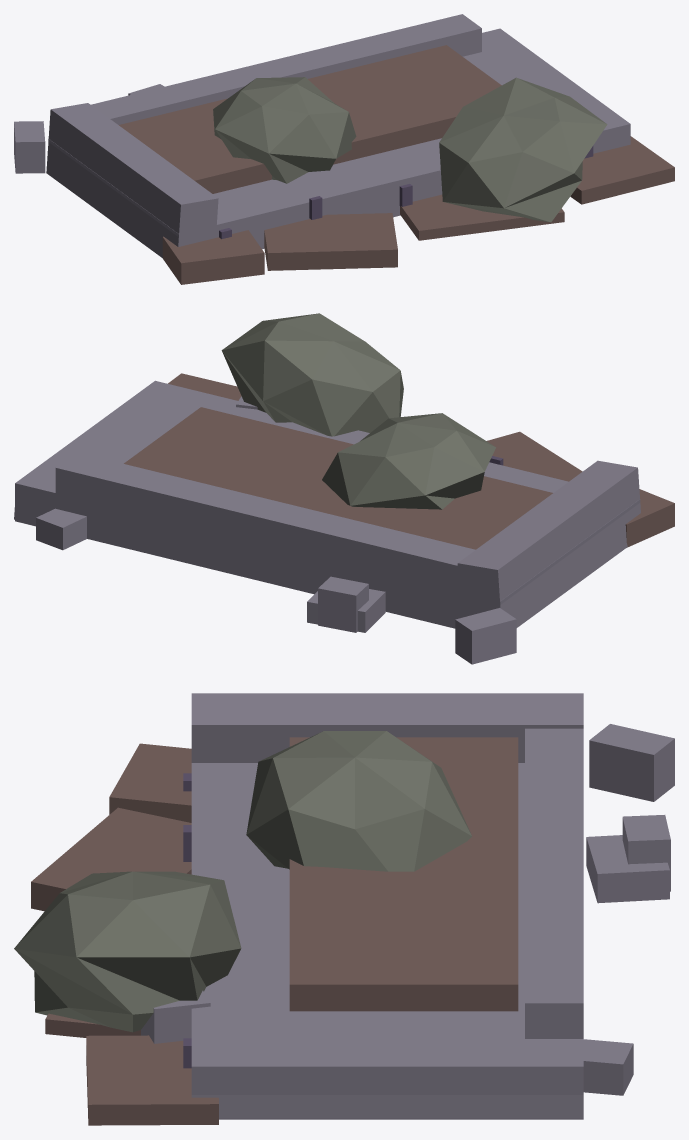
File: PlanterBroken.glb
The picture shows the model from 3 angles, top to bottom: view 1: azimuth 30°, elevation 25°; view 2: azimuth 150°, elevation 25°; view 3: azimuth 270°, elevation 25°; orthographic projection. The views are drawn at different scales.
Visible parts, largest first — view 1: crown (×2), soil, base, end--1, side--1, spill-2, spill-1, spill-3, spill-0, fragment-0, side-1; view 2: crown (×2), base, side--1, soil, end--1, fragment-0, spill-2, fragment-2, spill-3, fragment-4, fragment-3, end-1 (+1 smaller); view 3: crown (×2), base, soil, end--1, side--1, spill-1, end-1, spill-2, fragment-0, spill-3, fragment-3, fragment-4 (+3 smaller).
Boxes of the visible parts, box(x1,y1,x2,y2) form: crown (×2): box(213, 77, 607, 222); soil: box(119, 45, 501, 193); base: box(48, 28, 630, 248); end--1: box(46, 103, 218, 258); side--1: box(91, 14, 481, 124); spill-2: box(264, 213, 397, 270); spill-1: box(570, 136, 674, 204); spill-3: box(162, 230, 264, 284); spill-0: box(400, 194, 564, 240); fragment-0: box(14, 121, 45, 173); side-1: box(218, 182, 442, 249); crown (×2): box(221, 313, 495, 509); base: box(15, 380, 640, 628); side--1: box(55, 452, 475, 601); soil: box(124, 407, 552, 549); end--1: box(457, 460, 640, 627); fragment-0: box(455, 608, 516, 664); spill-2: box(486, 431, 582, 481); fragment-2: box(318, 576, 368, 632); spill-3: box(625, 489, 674, 547); fragment-4: box(36, 508, 86, 550); fragment-3: box(307, 589, 385, 632); end-1: box(14, 486, 56, 526); crown (×2): box(14, 731, 471, 1032); base: box(191, 763, 583, 1119); soil: box(289, 737, 518, 1011); end--1: box(191, 693, 583, 762); side--1: box(525, 728, 583, 1038); spill-1: box(86, 1035, 218, 1125); end-1: box(191, 1095, 583, 1118); spill-2: box(31, 807, 191, 911); fragment-0: box(589, 724, 674, 801); spill-3: box(109, 743, 191, 822); fragment-3: box(586, 835, 669, 903); fragment-4: box(583, 1039, 633, 1095).
Bounding box in the file's own units: 2.58 × 0.5367 × 2.02.
